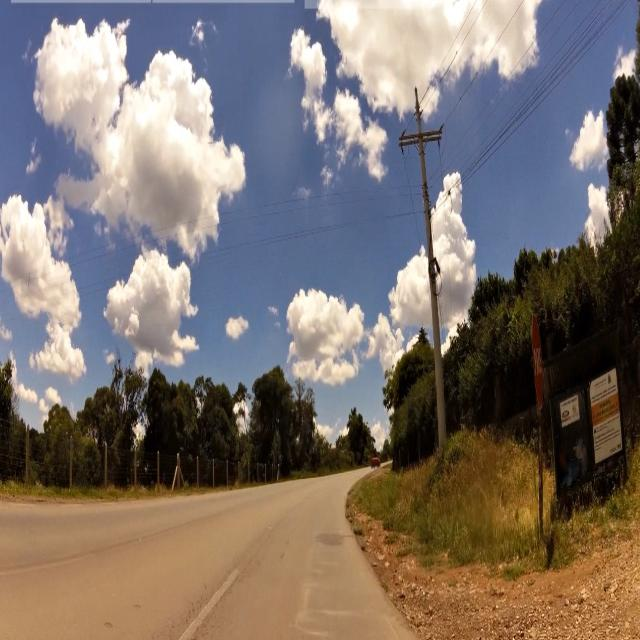R-1: (527, 313, 547, 409)
